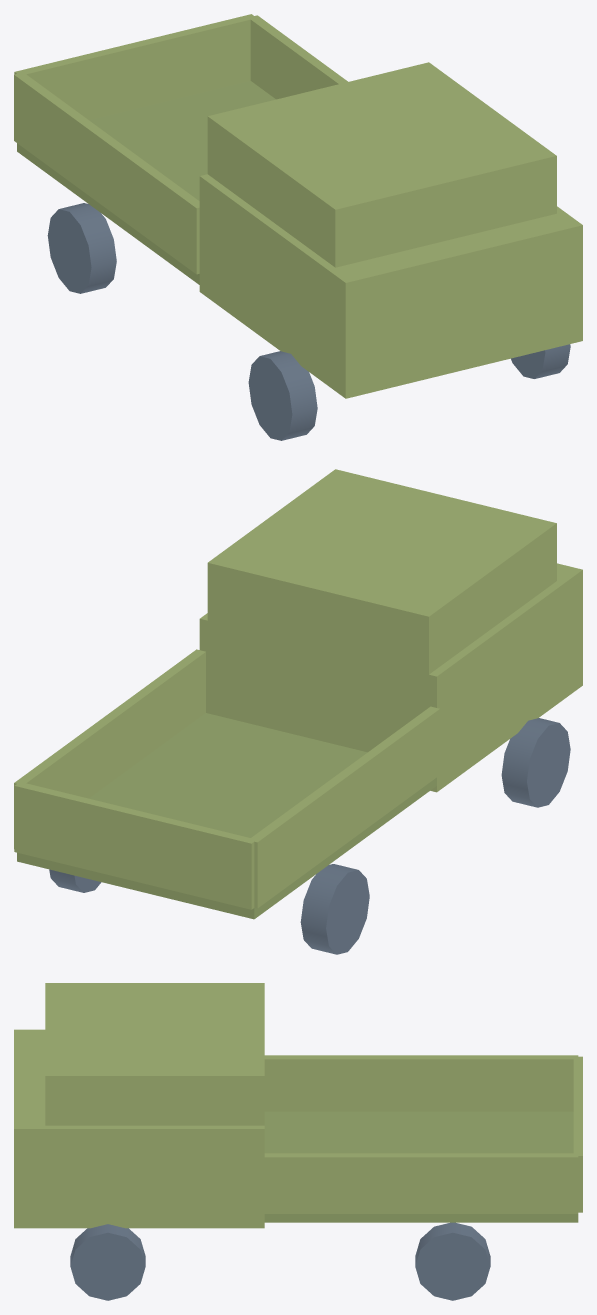
File: pickup_truck.glb
3 views of the same model, one above another, from view 1: azimuth 30°, elevation 25°; view 2: azimuth 150°, elevation 25°; view 3: azimuth 270°, elevation 25° (orthographic). The views are drawn at different scales.
Size of the model in its own units: 0.88 by 0.75 by 1.82.
